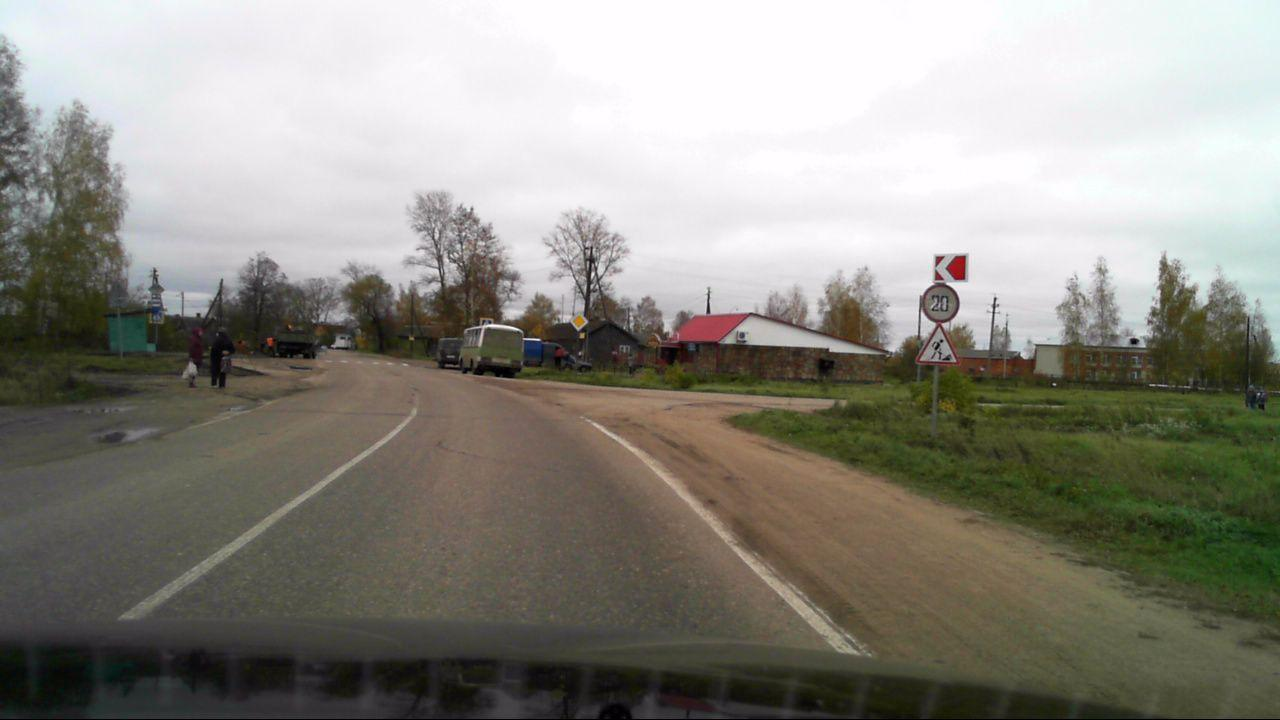1_25: (916, 323, 958, 366)
1_34_2: (932, 252, 970, 283)
2_1: (571, 313, 588, 331)
3_24: (920, 285, 961, 322)
5_19_1: (480, 318, 494, 326)
5_19_2: (151, 312, 163, 322)
